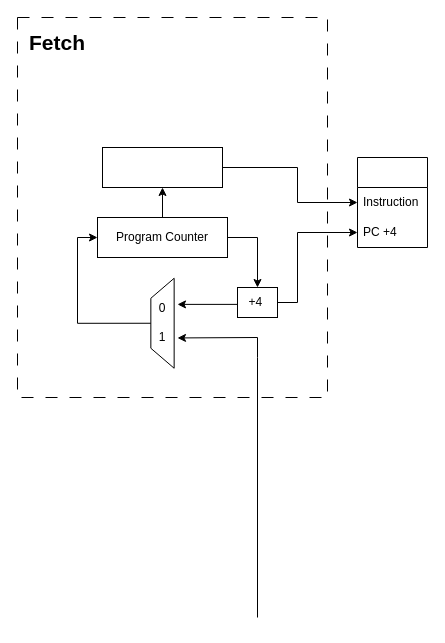
This 445x643 diagram has some shape labels left out. The box of each missing label's shape, as (x1, y1, x2, y2) in pixels:
IF_ID: (356, 156, 428, 248)
Instruction Memory: (102, 146, 222, 188)
